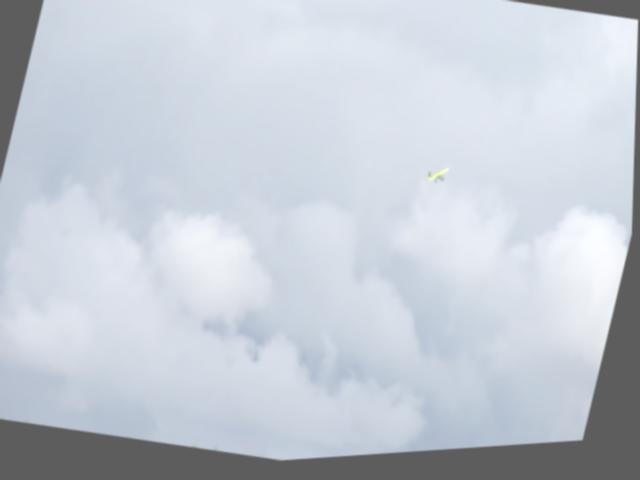plane: (427, 172, 449, 192)
